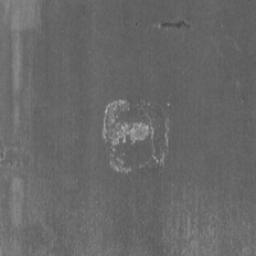Rolled pit: (102, 100, 169, 173), (155, 20, 190, 29)
